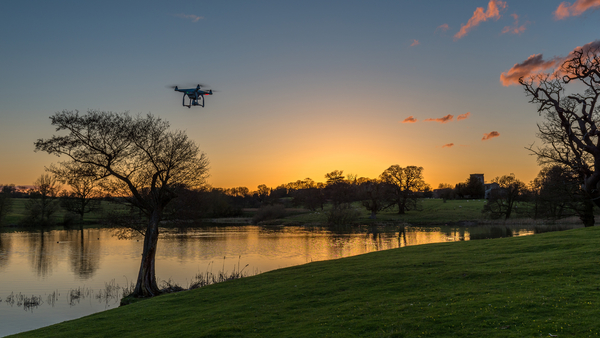drone: (165, 83, 220, 110)
